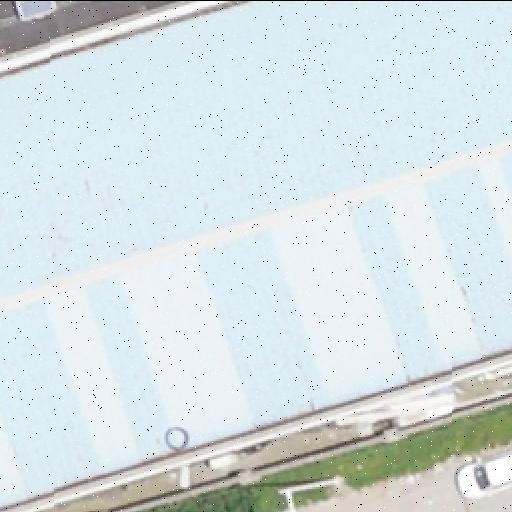solar-panel: (16, 0, 56, 20)
